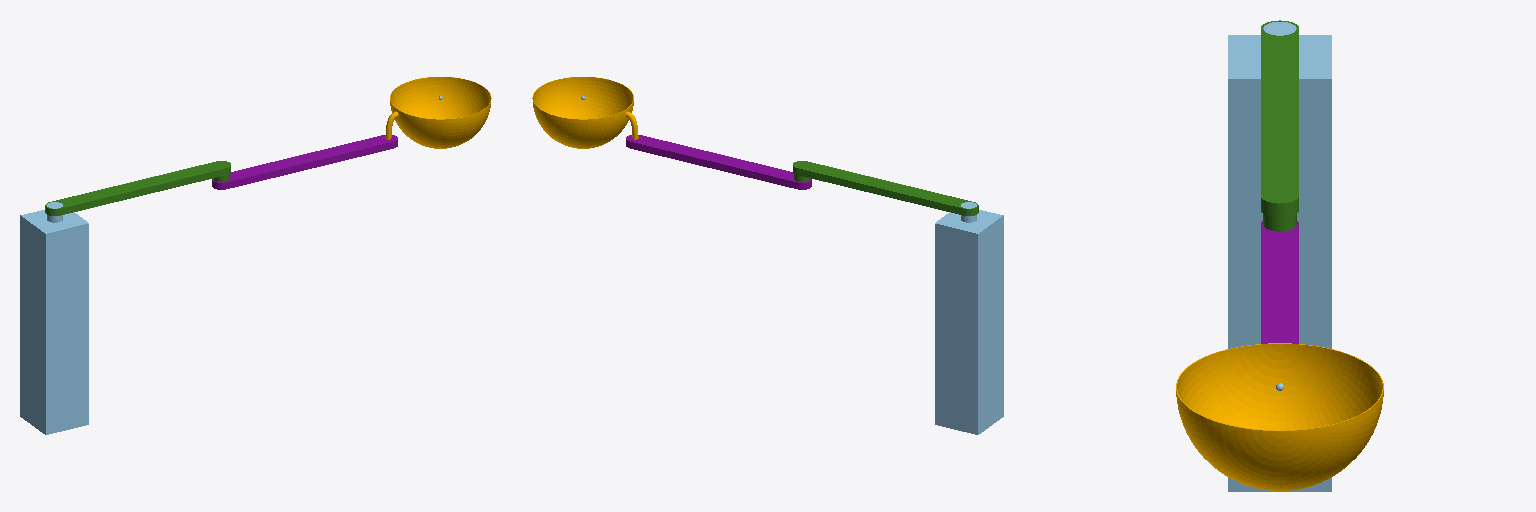
URDF robot description (cup_manipulator):
<?xml version="1.0" ?>
<!-- Generated using onshape-to-robot -->
<!-- Onshape https://cad.onshape.com/documents/02830e503a1c2626d58e0780/w/62db7934caa01effe231f1a9/e/2d769953bf8ae2f53470bd74 -->
<robot name="cup_manipulator">
  <!-- Link base_mount_manipulator -->
  <link name="base_mount_manipulator">
    <inertial>
      <origin xyz="1.73472e-18 -1.61424e-17 0.553261" rpy="0 0 0"/>
      <mass value="542.696"/>
      <inertia ixx="58.2669" ixy="-1.00642e-16" ixz="4.25549e-16" iyy="58.2669" iyz="2.09038e-15" izz="5.62415"/>
    </inertial>
    <!-- Part base_mount_manipulator -->
    <visual>
      <origin xyz="1.73472e-18 -3.93204e-17 0" rpy="0 -0 0"/>
      <geometry>
        <mesh filename="package://assets/base_mount_manipulator.stl"/>
      </geometry>
      <material name="base_mount_manipulator_material">
        <color rgba="0.615686 0.811765 0.929412 1"/>
      </material>
    </visual>
    <collision>
      <origin xyz="1.73472e-18 -3.93204e-17 0" rpy="0 -0 0"/>
      <geometry>
        <mesh filename="package://assets/base_mount_manipulator.stl"/>
      </geometry>
    </collision>
  </link>
  <!-- Link link1 -->
  <link name="link1">
    <inertial>
      <origin xyz="0.549225 2.49602e-18 -0.0251674" rpy="0 0 0"/>
      <mass value="4.09268"/>
      <inertia ixx="0.00488114" ixy="0" ixz="0.0100885" iyy="0.371281" iyz="0" izz="0.372175"/>
    </inertial>
    <!-- Part link1 -->
    <visual>
      <origin xyz="0 2.44929e-18 -0.038125" rpy="0 -0 0"/>
      <geometry>
        <mesh filename="package://assets/link1.stl"/>
      </geometry>
      <material name="link1_material">
        <color rgba="0.282353 0.54902 0.160784 1"/>
      </material>
    </visual>
    <collision>
      <origin xyz="0 2.44929e-18 -0.038125" rpy="0 -0 0"/>
      <geometry>
        <mesh filename="package://assets/link1.stl"/>
      </geometry>
    </collision>
  </link>
  <!-- Link link2 -->
  <link name="link2">
    <inertial>
      <origin xyz="0.499172 2.57775e-18 -0.0190625" rpy="0 0 0"/>
      <mass value="3.64129"/>
      <inertia ixx="0.00315811" ixy="0" ixz="0" iyy="0.286844" iyz="0" izz="0.28912"/>
    </inertial>
    <!-- Part cup -->
    <visual>
      <origin xyz="1.2515 7.18382e-17 0.15" rpy="0 -0 0"/>
      <geometry>
        <mesh filename="package://assets/cup.stl"/>
      </geometry>
      <material name="cup_material">
        <color rgba="0.980392 0.713725 0.00392157 1"/>
      </material>
    </visual>
    <collision>
      <origin xyz="1.2515 7.18382e-17 0.15" rpy="0 -0 0"/>
      <geometry>
        <mesh filename="package://assets/cup.stl"/>
      </geometry>
    </collision>
    <!-- Part link2 -->
    <visual>
      <origin xyz="0 2.44929e-18 -0.038125" rpy="0 -0 0"/>
      <geometry>
        <mesh filename="package://assets/link2.stl"/>
      </geometry>
      <material name="link2_material">
        <color rgba="0.596078 0.121569 0.67451 1"/>
      </material>
    </visual>
    <collision>
      <origin xyz="0 2.44929e-18 -0.038125" rpy="0 -0 0"/>
      <geometry>
        <mesh filename="package://assets/link2.stl"/>
      </geometry>
    </collision>
    <!-- Part simple_ball -->
    <visual>
      <origin xyz="1.2515 8.5716e-17 0.15" rpy="0 -0 0"/>
      <geometry>
        <mesh filename="package://assets/simple_ball.stl"/>
      </geometry>
      <material name="simple_ball_material">
        <color rgba="0.615686 0.811765 0.929412 1"/>
      </material>
    </visual>
    <collision>
      <origin xyz="1.2515 8.5716e-17 0.15" rpy="0 -0 0"/>
      <geometry>
        <mesh filename="package://assets/simple_ball.stl"/>
      </geometry>
    </collision>
  </link>
  <!-- Joint from link1 to link2 -->
  <joint name="link2_link1" type="revolute">
    <origin xyz="0.953 -2.10893e-17 -0.078125" rpy="0 -0 0"/>
    <parent link="link1"/>
    <child link="link2"/>
    <axis xyz="0 0 1"/>
    <limit effort="10" velocity="10" lower="-3.141592653589793" upper="3.141592653589793"/>
  </joint>
  <!-- Joint from base_mount_manipulator to link1 -->
  <joint name="link1_base" type="revolute">
    <origin xyz="2.31296e-18 -3.68711e-17 1.17625" rpy="0 -0 0"/>
    <parent link="base_mount_manipulator"/>
    <child link="link1"/>
    <axis xyz="0 0 1"/>
    <limit effort="10" velocity="10" lower="-3.141592653589793" upper="3.141592653589793"/>
  </joint>
</robot>

--- Render facts (derived) ---
3 views of the same robot in one strip: view 1: azimuth 30°, elevation 25°; view 2: azimuth 150°, elevation 25°; view 3: azimuth 270°, elevation 25° (orthographic).
Model cup_manipulator with 3 links and 2 joints (2 revolute), rooted at base_mount_manipulator, posed every joint at zero.
Links seen in each view (by area): view 1: base_mount_manipulator, link2, link1; view 2: base_mount_manipulator, link2, link1; view 3: link2, base_mount_manipulator, link1.
Boxes of the visible links, <box> form: base_mount_manipulator: <box>20,202,88,434</box>; link2: <box>212,77,491,189</box>; link1: <box>45,161,230,215</box>; base_mount_manipulator: <box>935,202,1003,434</box>; link2: <box>532,77,811,189</box>; link1: <box>793,161,978,215</box>; link2: <box>1176,221,1383,490</box>; base_mount_manipulator: <box>1228,22,1331,491</box>; link1: <box>1261,20,1298,231</box>.
Bounding box of the posed robot: 2.58 × 0.503 × 1.26 m (x, y, z).
5 mesh visuals loaded from 5 distinct referenced files (5 binary STL).
